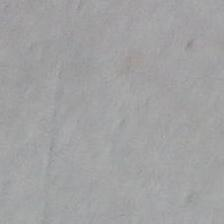Non_Crack: (22, 28, 215, 205)
